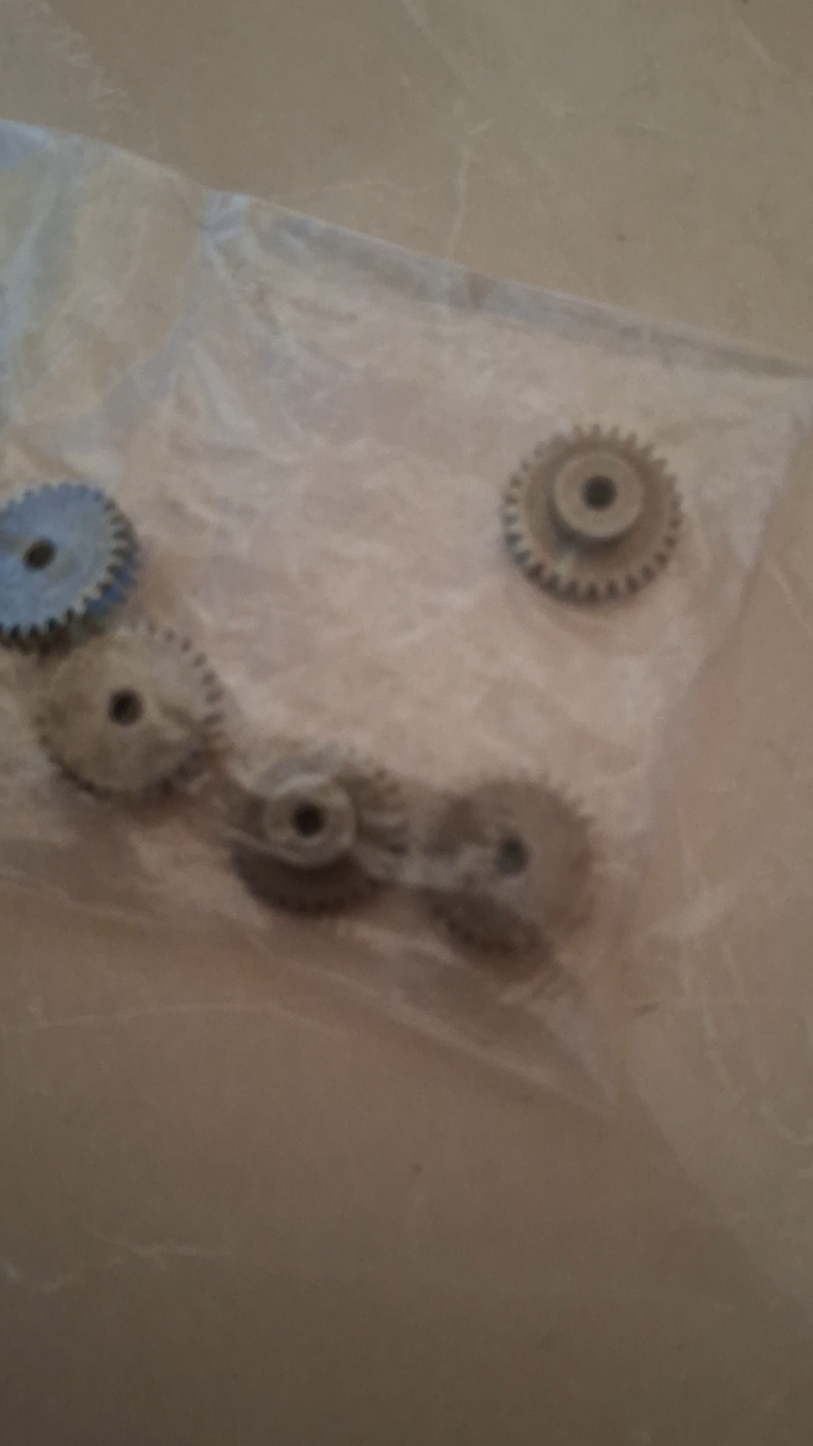spur gear: (39, 624, 221, 798), (502, 427, 681, 603), (228, 743, 408, 913), (423, 781, 594, 955), (0, 482, 139, 650)
